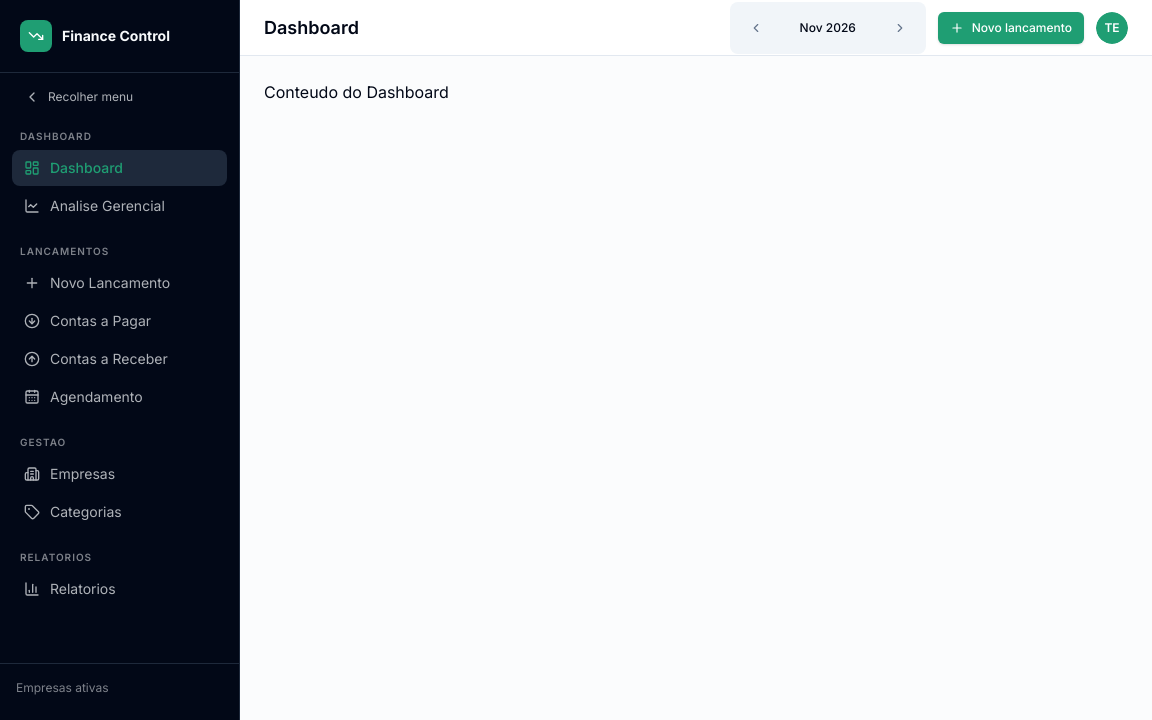
Test: AppLayout - sidebar recolhivel (desktop) › recolhe a sidebar e persiste a preferencia em localStorage
Click the button with aria-label "recolher menu de navegacao" at (120, 97), box [12,81,227,113]
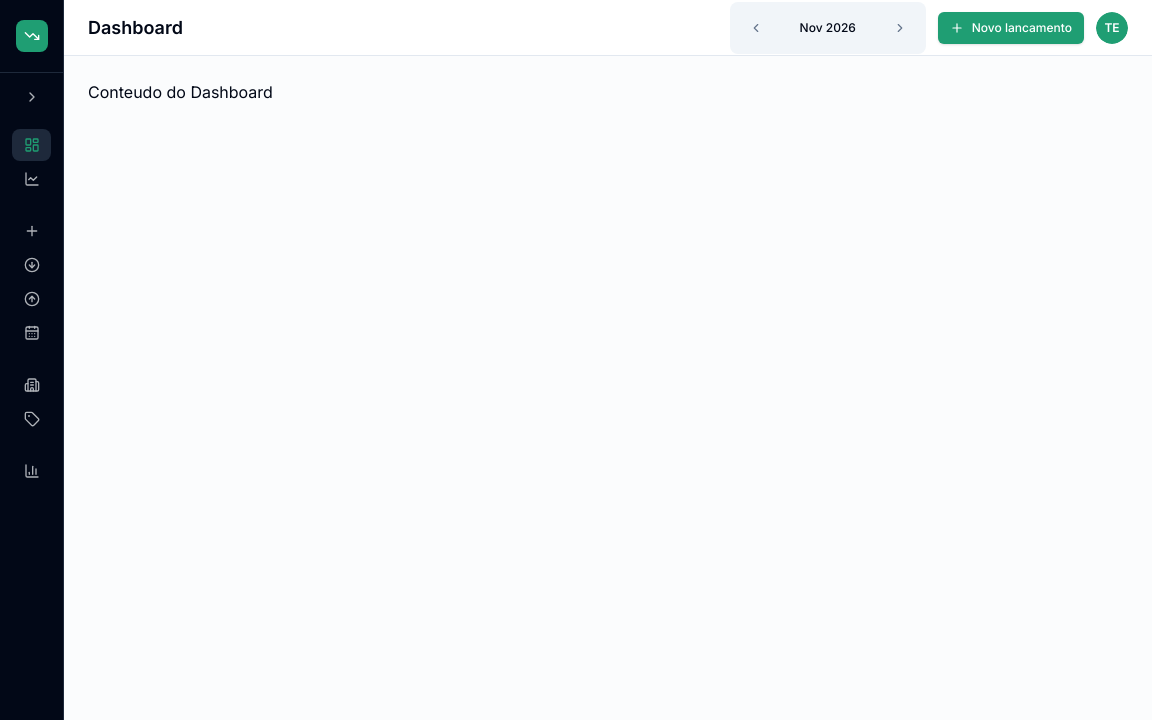
Expected: the text "Finance Control" has class "md:w-16", [0,0,64,719]
